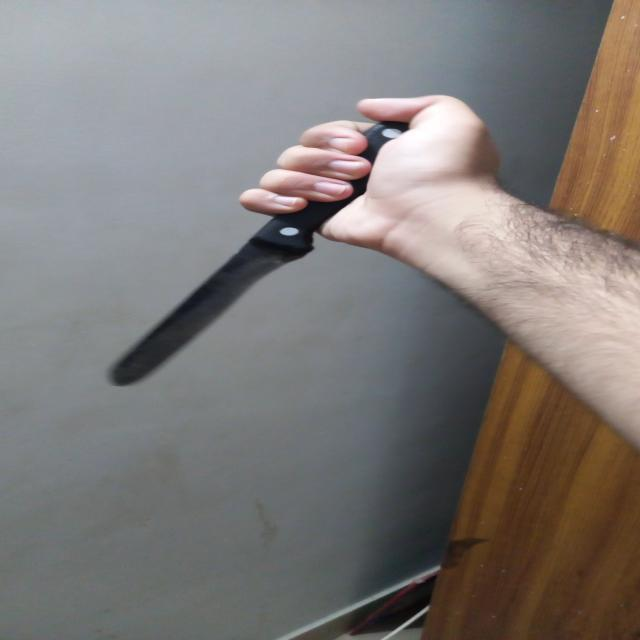Knife: (101, 76, 416, 397)
